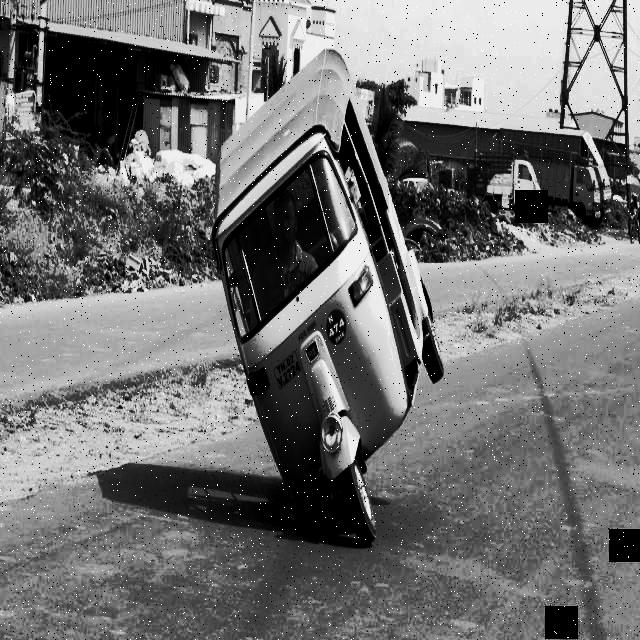Auto-Rickshaw: (206, 40, 458, 588)
